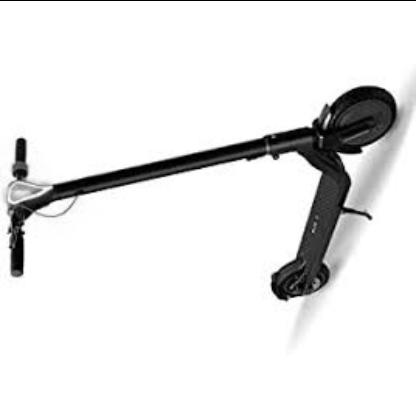bike: (0, 84, 397, 302)
